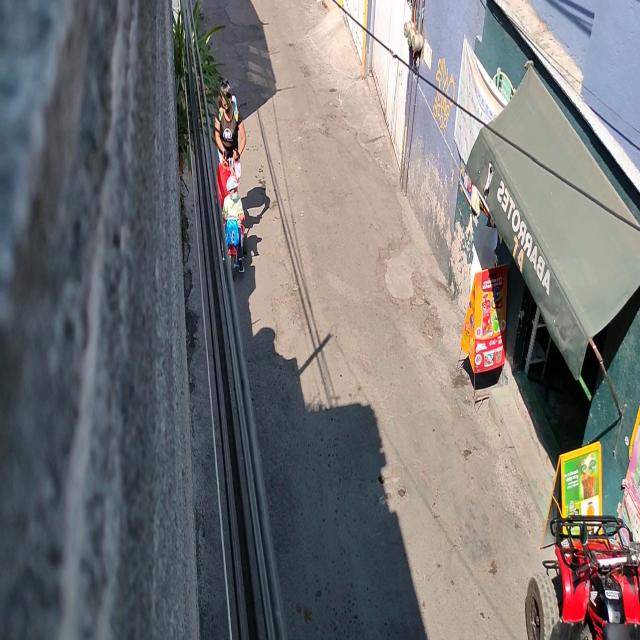adult: (213, 74, 248, 236)
child: (220, 174, 247, 275)
